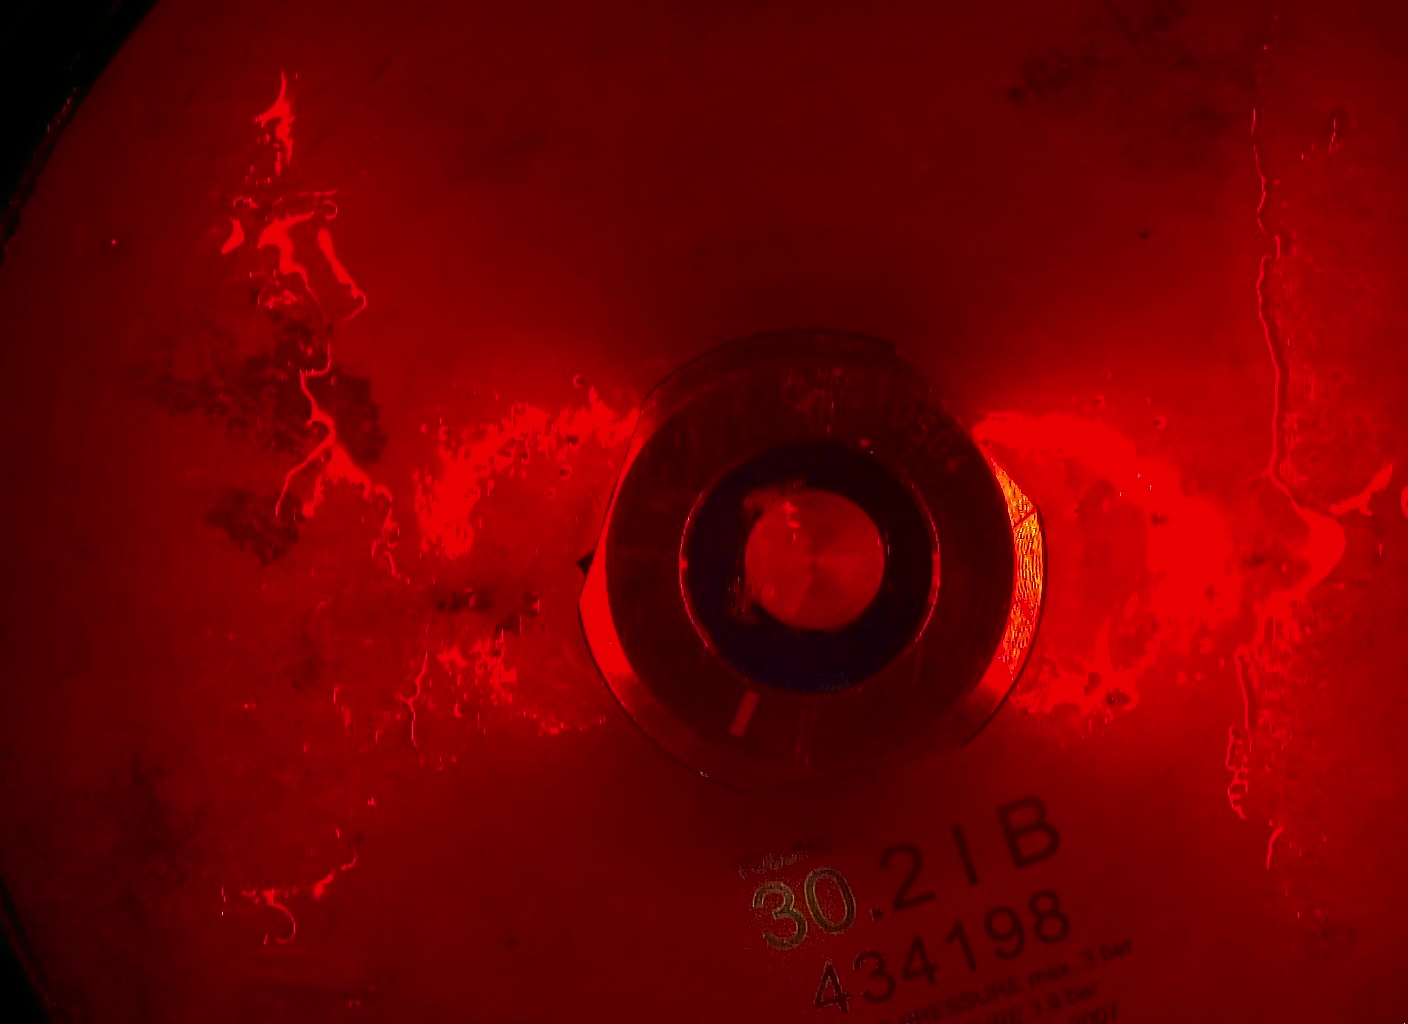pena: (724, 468, 805, 654)
